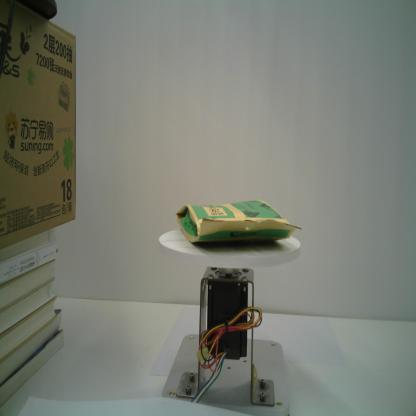Dried Food: (174, 198, 302, 246)
